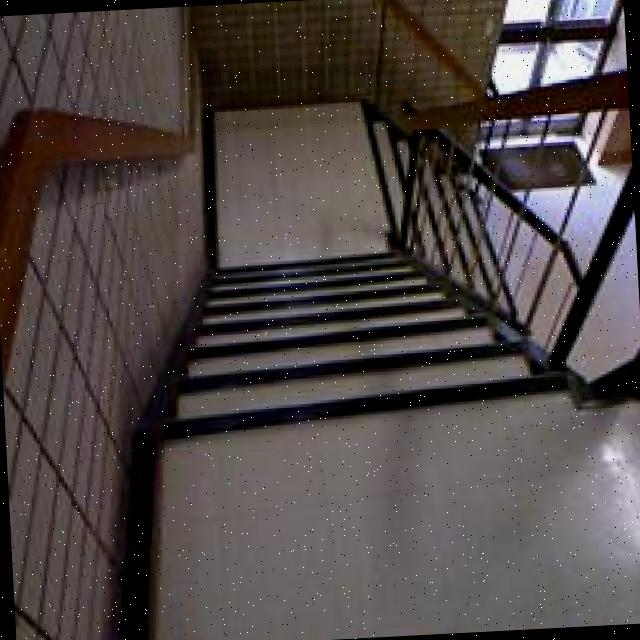stairs: (162, 188, 624, 469)
